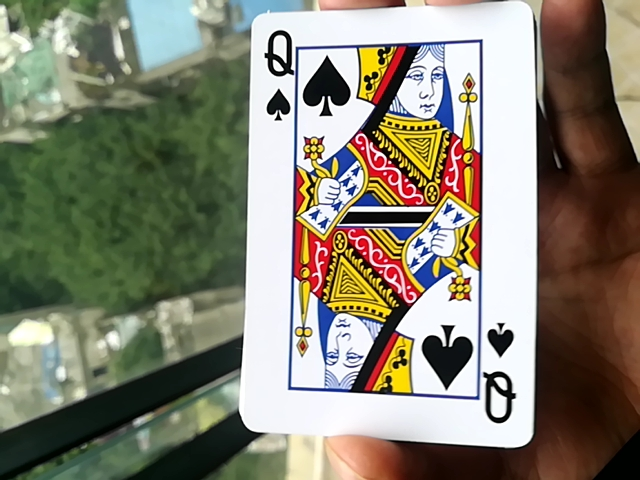ht q: (236, 1, 536, 453)
